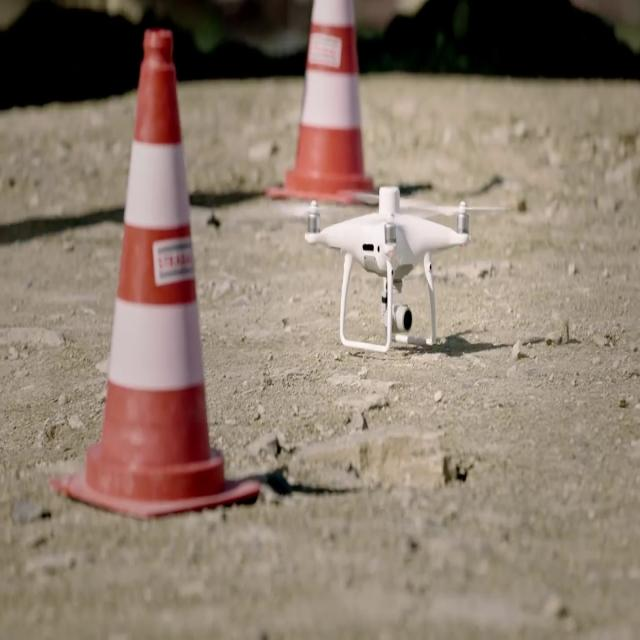drone: (269, 183, 512, 357)
